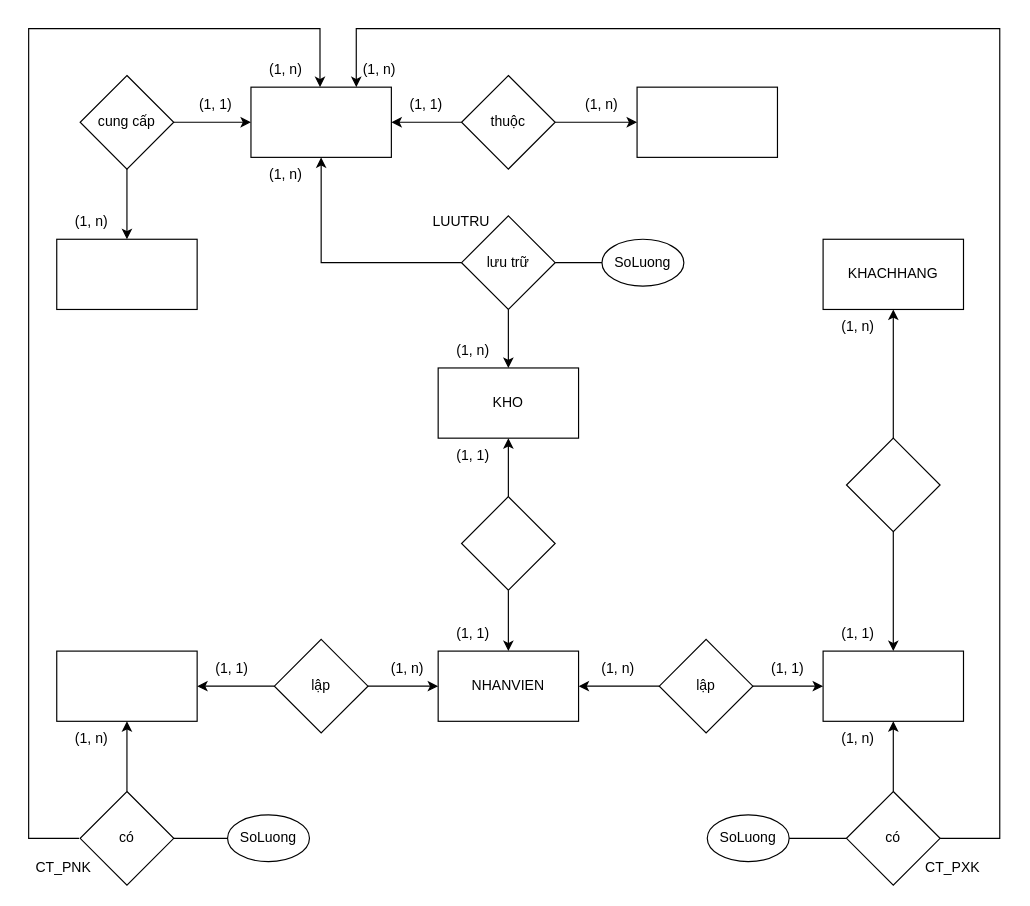
The diagram is 1030 pixels wide and 906 high, and some of its shapes have lost their labels. Here are the shapes that lost their labels. From the top down, the centre of each, then its label:
(320,121): SANPHAM
(706,121): LOAISP
(126,273): NCC
(892,484): bán
(507,542): quản lý
(126,685): PHIEUNHAPKHO
(892,685): PHIEUXUATKHO
